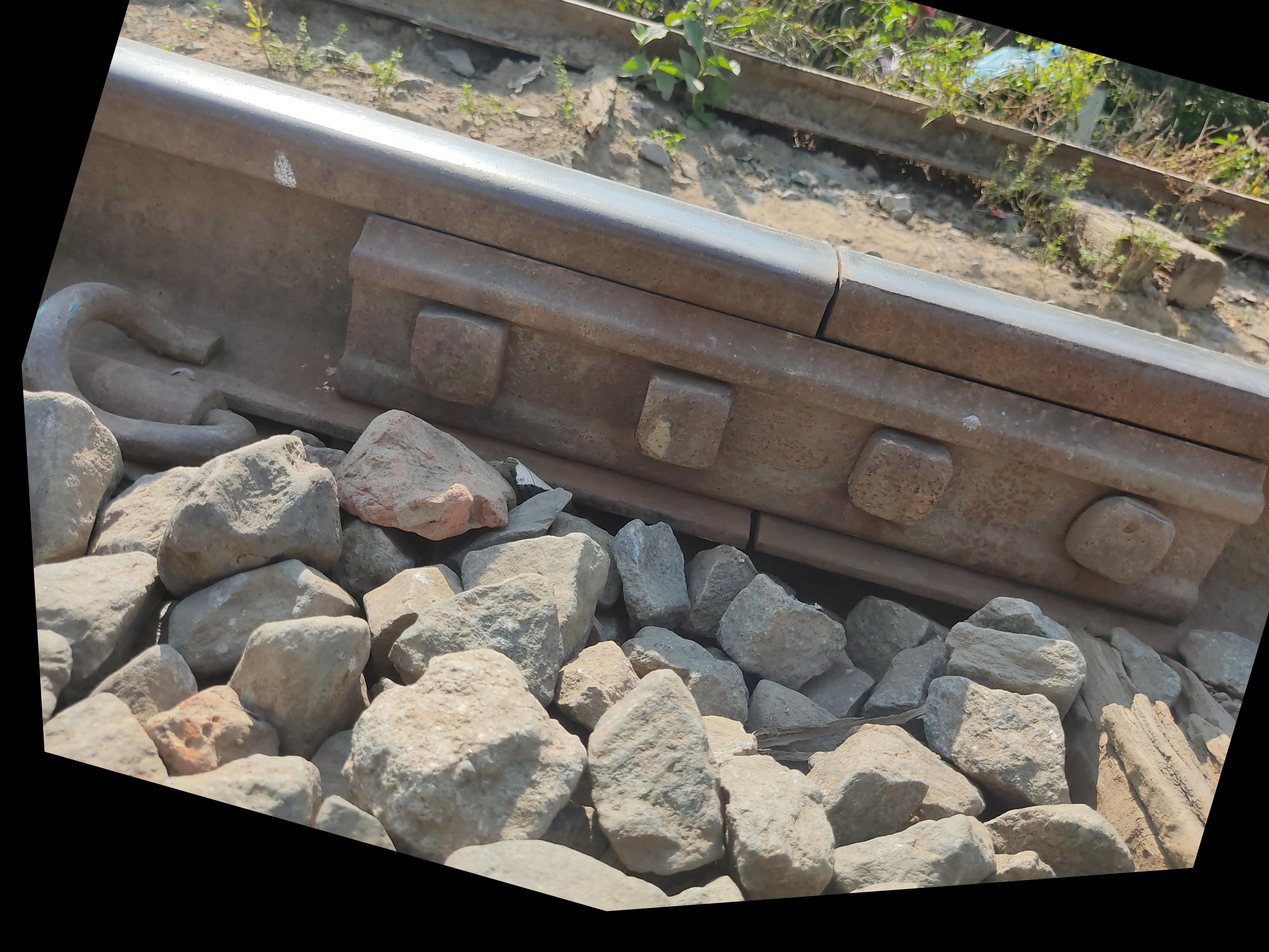person: (911, 11, 1115, 209), (879, 305, 987, 412)
